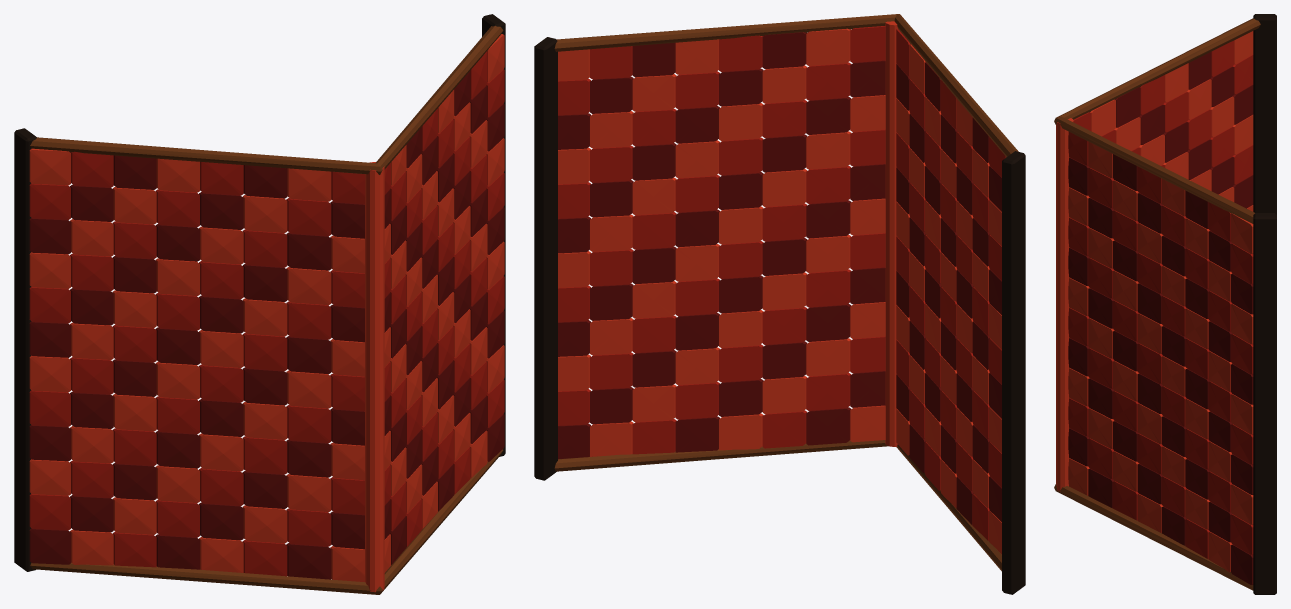
The model's file is CottageRoof.obj.
3 views of the same model, side by side, from view 1: azimuth 30°, elevation 25°; view 2: azimuth 150°, elevation 25°; view 3: azimuth 270°, elevation 25° (orthographic). The views are drawn at different scales.
Parts seen in each view (by area): view 1: CottageRoof; view 2: CottageRoof; view 3: CottageRoof.
Part boxes in pixels (x1,y1,x2,y2): CottageRoof: (14,14,505,594); CottageRoof: (534,14,1025,594); CottageRoof: (1054,14,1276,594).
Bounding box in the file's own units: 510 × 440 × 235.
